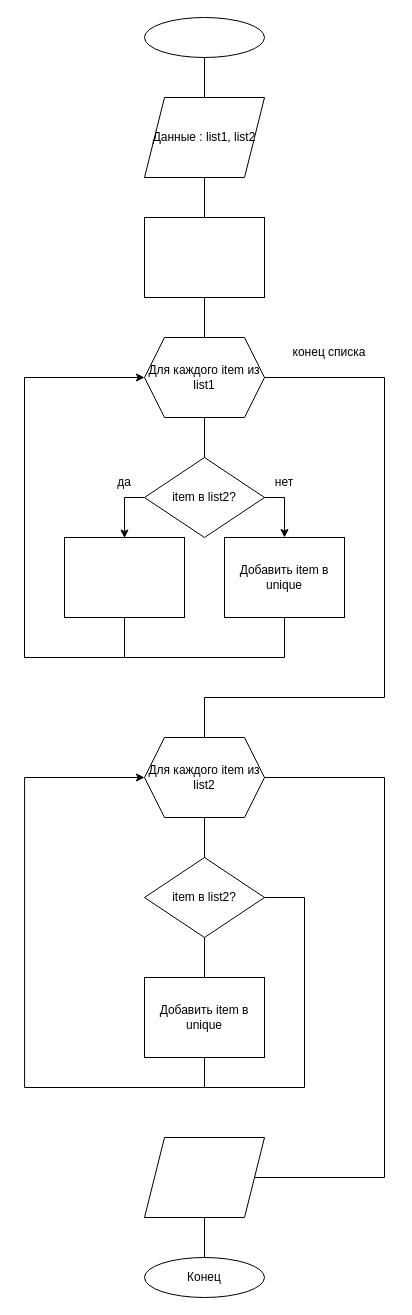
This 412x1315 diagram has some shape labels left out. The centre of each missing label's shape, as x and y in pixels:
"coincidences = [], unique = []" goes at pixel 204 257.
"Вывод : coincidences, unique" goes at pixel 204 1177.
"Добавить item в coincidences" goes at pixel 124 577.
"Начало" goes at pixel 204 37.
